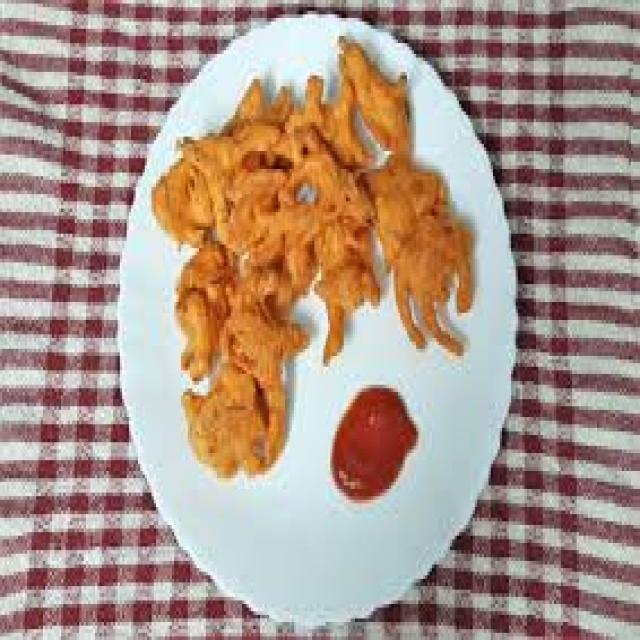BAJI: (152, 42, 488, 475)
